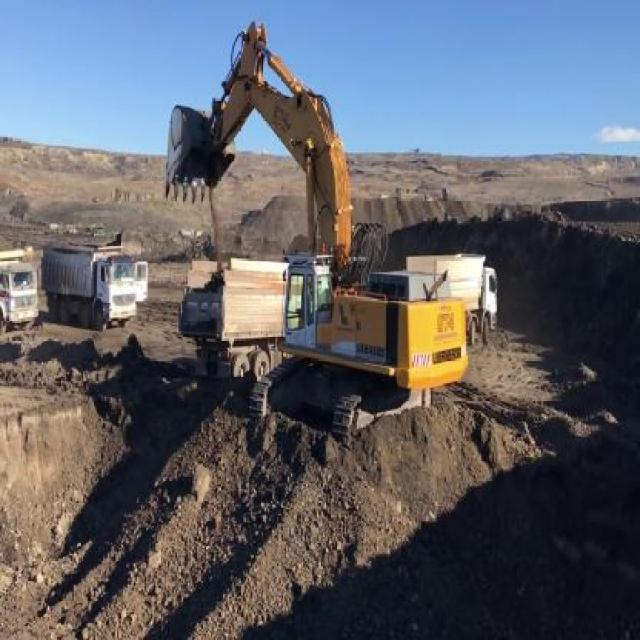dump_truck: (177, 257, 281, 391), (41, 242, 147, 332), (453, 252, 498, 345), (1, 247, 36, 328)
excavator: (162, 17, 469, 435)
